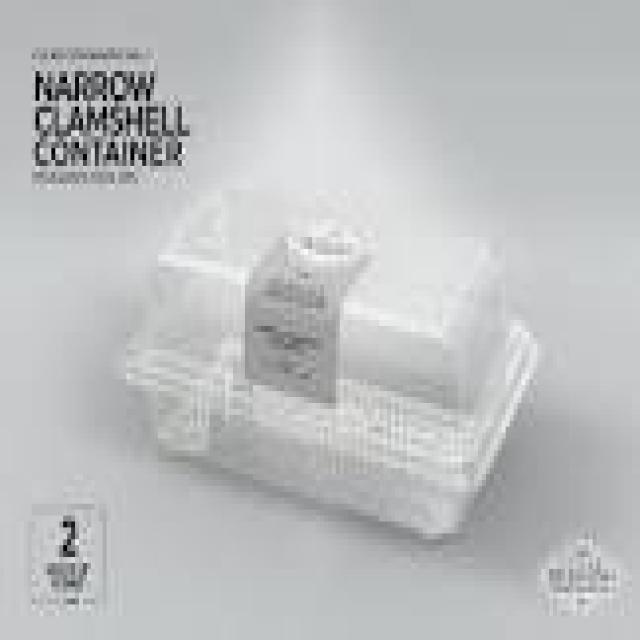Clamshell: (117, 148, 558, 552)
